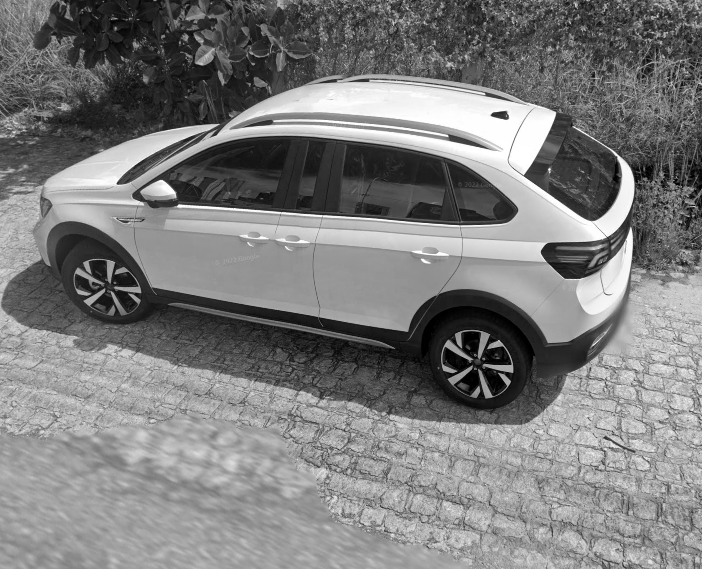car: (30, 69, 639, 411)
